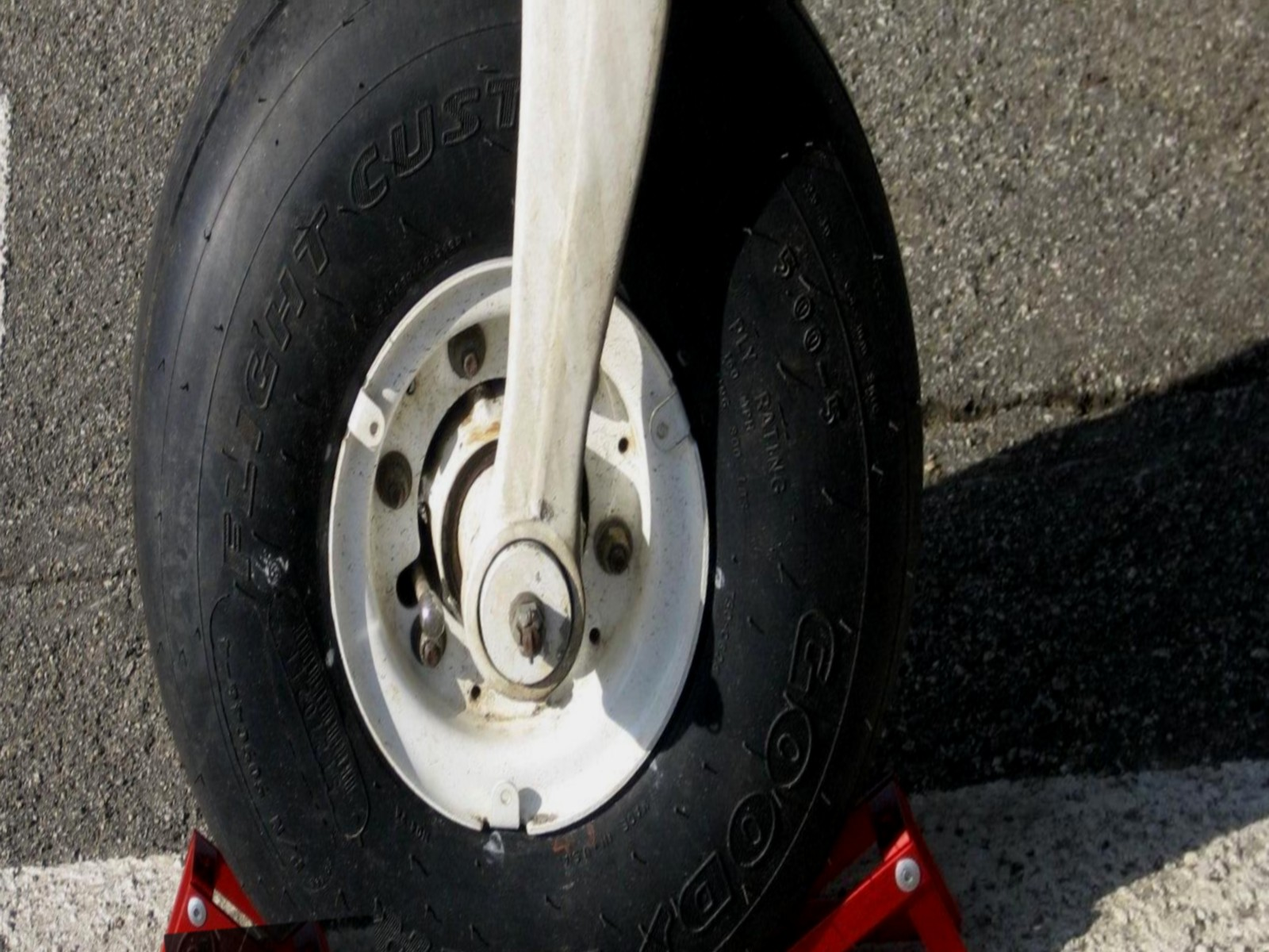chock: (704, 752, 1003, 952), (128, 790, 358, 952)
wheel: (53, 0, 1019, 952)
